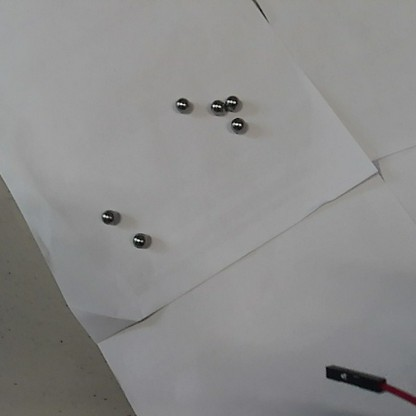ironball: (99, 208, 118, 227), (208, 96, 226, 116), (130, 229, 148, 249), (227, 115, 246, 133), (175, 95, 190, 112), (225, 91, 238, 110)
